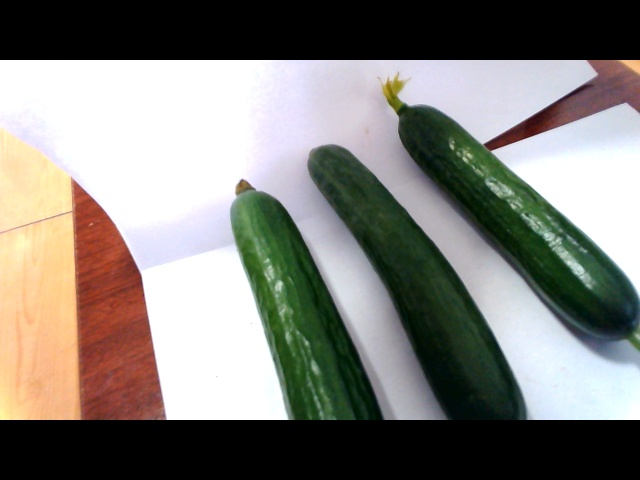cucumber: (223, 93, 634, 419)
